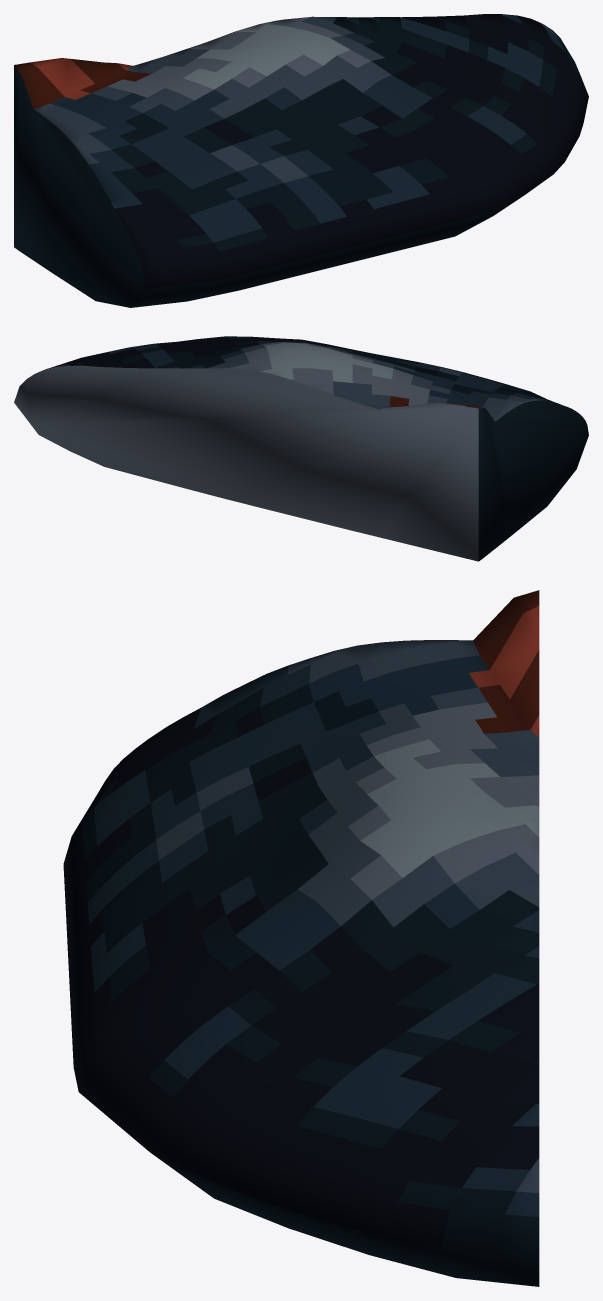
File: newshn-197.glb
The picture shows the model from 3 angles, top to bottom: view 1: azimuth 30°, elevation 25°; view 2: azimuth 150°, elevation 25°; view 3: azimuth 270°, elevation 25°; orthographic projection. The views are drawn at different scales.
Parts seen in each view (by area): view 1: newshn-197; view 2: newshn-197; view 3: newshn-197.
Part boxes in pixels (x1,y1,x2,y2): newshn-197: (14,14,588,307); newshn-197: (14,336,588,561); newshn-197: (63,590,539,1286).
Size of the model in its own units: 1.6 by 0.5026 by 0.7083.
